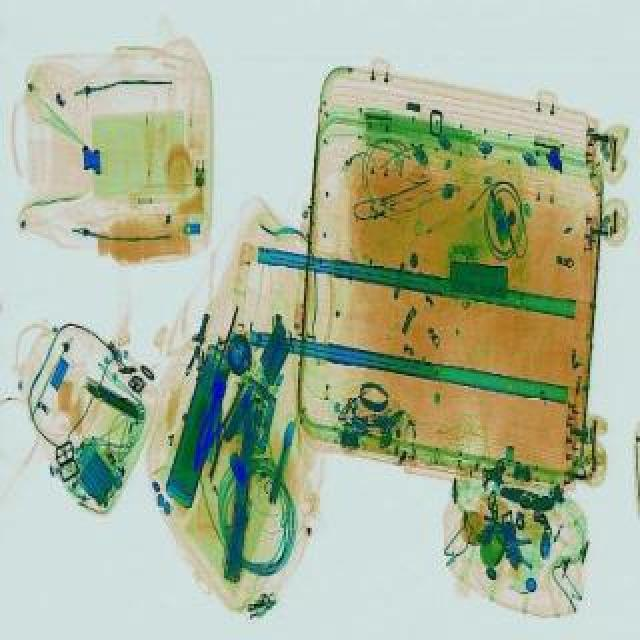wrench: (188, 370, 236, 478), (186, 372, 244, 458)
